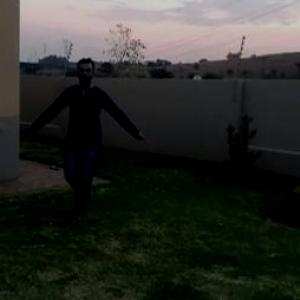land: (33, 59, 148, 206)
